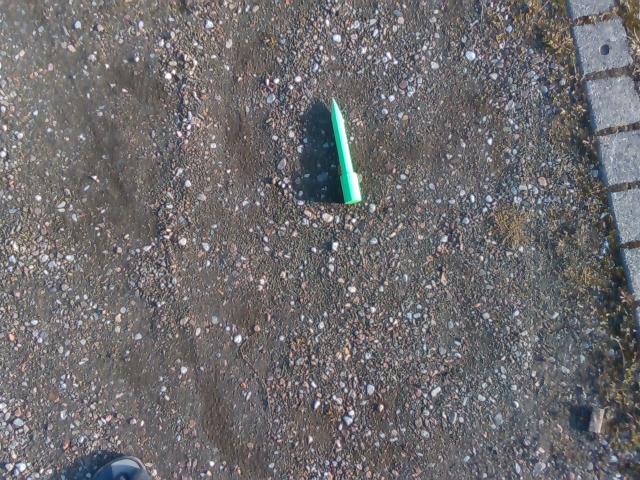Probe: (327, 92, 363, 207)
